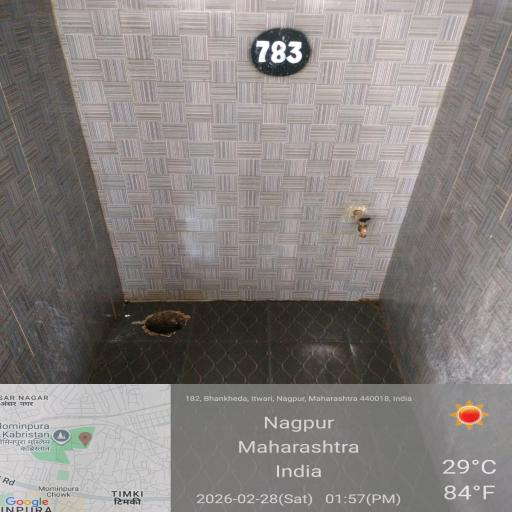clean_floor: (38, 36, 462, 478)
